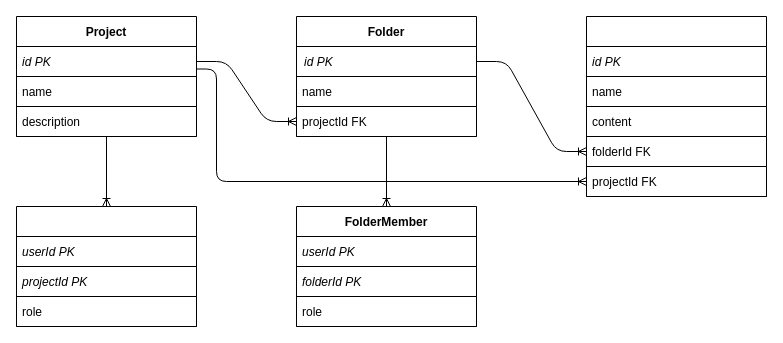
The diagram is 783 pixels wide and 343 high, and some of its shapes have lost their labels. Each missing label, with the box of its shape:
File: (586, 16, 766, 196)
ProjectMember: (16, 206, 196, 326)
